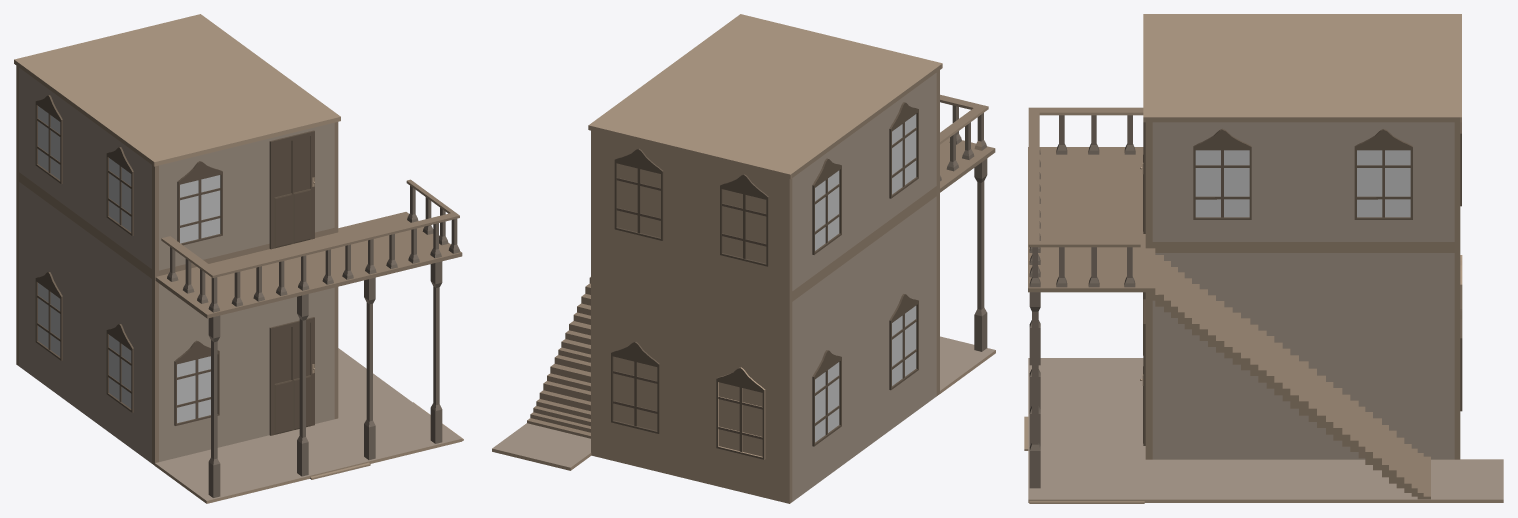
File: CasaCamini3.fbx
3 renders of one model, left to right at view 1: azimuth 30°, elevation 25°; view 2: azimuth 150°, elevation 25°; view 3: azimuth 270°, elevation 25°, orthographic. The views are drawn at different scales.
Visible parts, largest first — view 1: Casa; view 2: Casa; view 3: Casa.
Part boxes in pixels (x1,y1,x2,y2): Casa: [14, 14, 463, 503]; Casa: [492, 14, 995, 503]; Casa: [1024, 14, 1503, 503].
Size of the model in its own units: 40.91 by 45.98 by 57.68.
